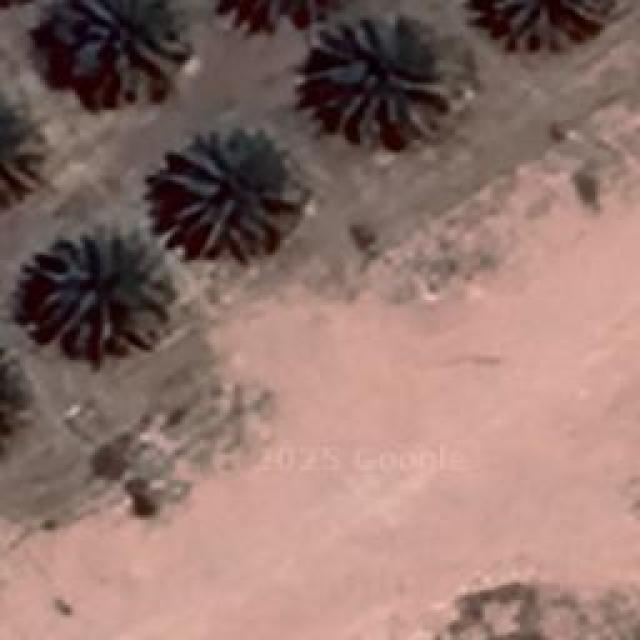PalmTree: (30, 227, 175, 355), (160, 132, 300, 258), (310, 18, 448, 140), (64, 0, 188, 98), (487, 0, 615, 45), (0, 95, 48, 205), (216, 0, 342, 36), (0, 341, 36, 458)
